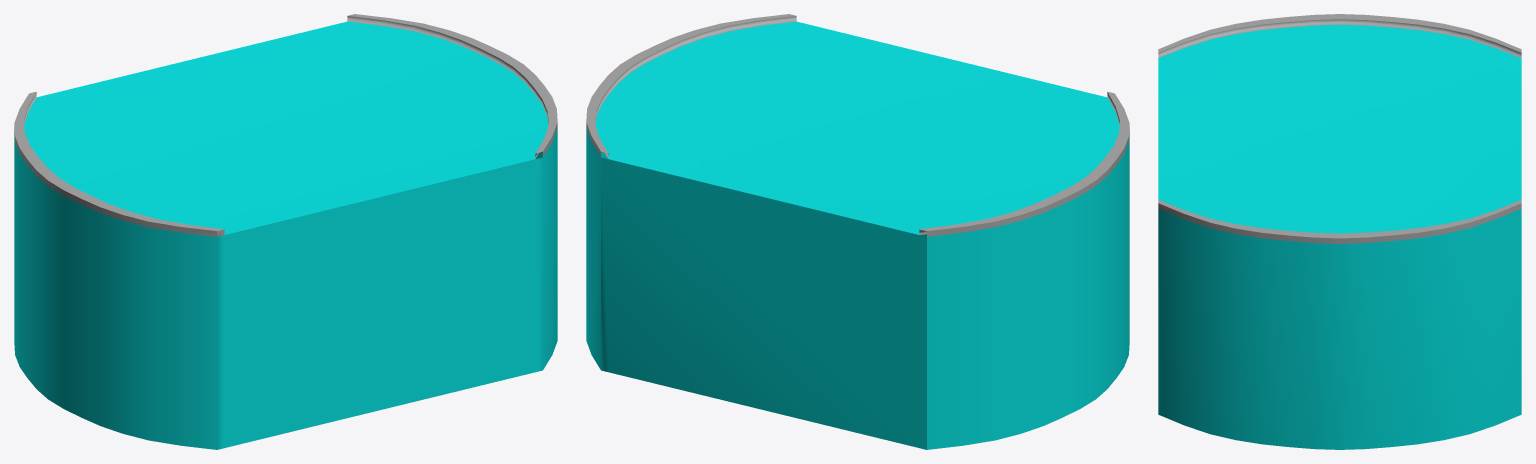
3 renders of one model, left to right at view 1: azimuth 30°, elevation 25°; view 2: azimuth 150°, elevation 25°; view 3: azimuth 270°, elevation 25°, orthographic. The views are drawn at different scales.
Visible parts, largest first — view 1: Circle; view 2: Circle; view 3: Circle.
Boxes of the visible parts, left/top/right/bottom form: Circle: left=14, top=14, right=557, bottom=449; Circle: left=586, top=14, right=1129, bottom=449; Circle: left=1158, top=14, right=1521, bottom=449.
Size of the model in its own units: 1168 by 513 by 800.
